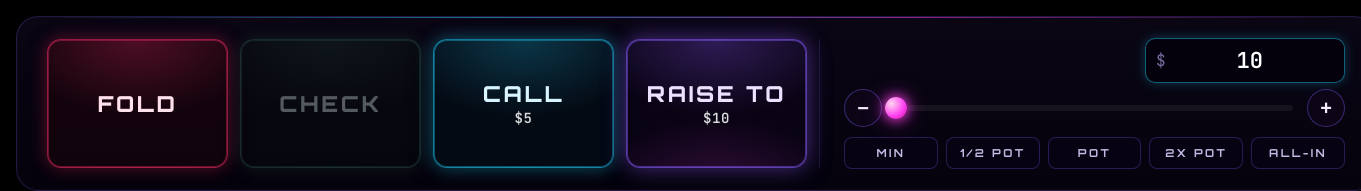
Test: ActionBar › amount input normalizes fractional input on change
(page scrolled)
Replace the text in the number field named "raise amount" with "25.7". click: (1250, 60)
box: [1166, 45, 1334, 76]
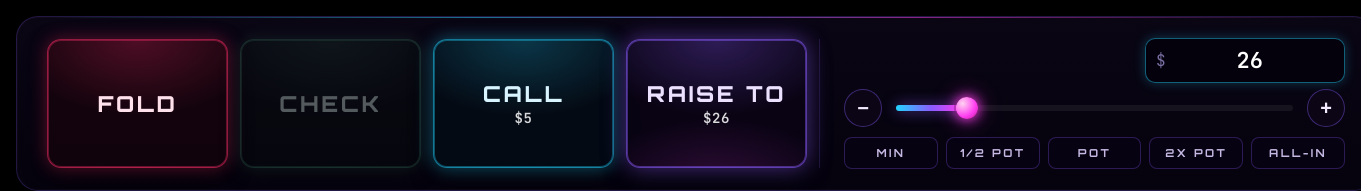
Check: the button "RAISE TO $26" is shown, box [626, 39, 807, 168]
